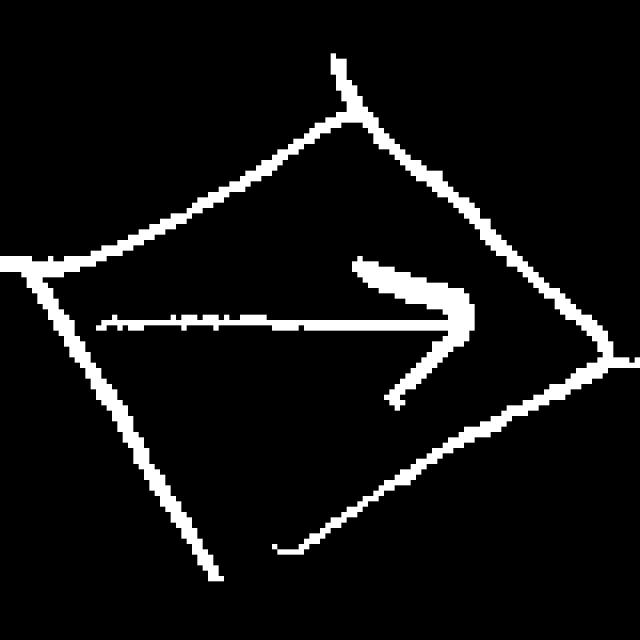dependant_current: (28, 99, 622, 597)
